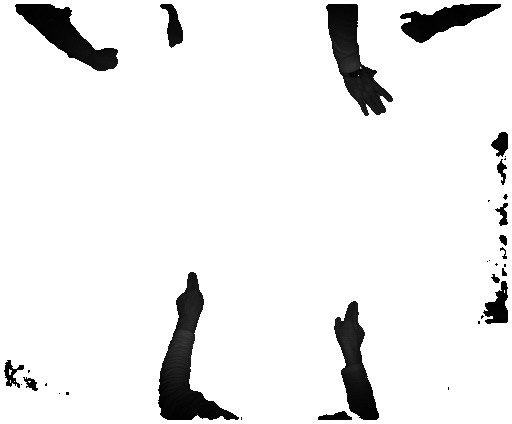fist: (94, 48, 119, 71), (165, 26, 183, 47)
hand: (349, 70, 399, 119), (328, 296, 367, 356), (176, 272, 207, 322), (400, 12, 437, 47)
